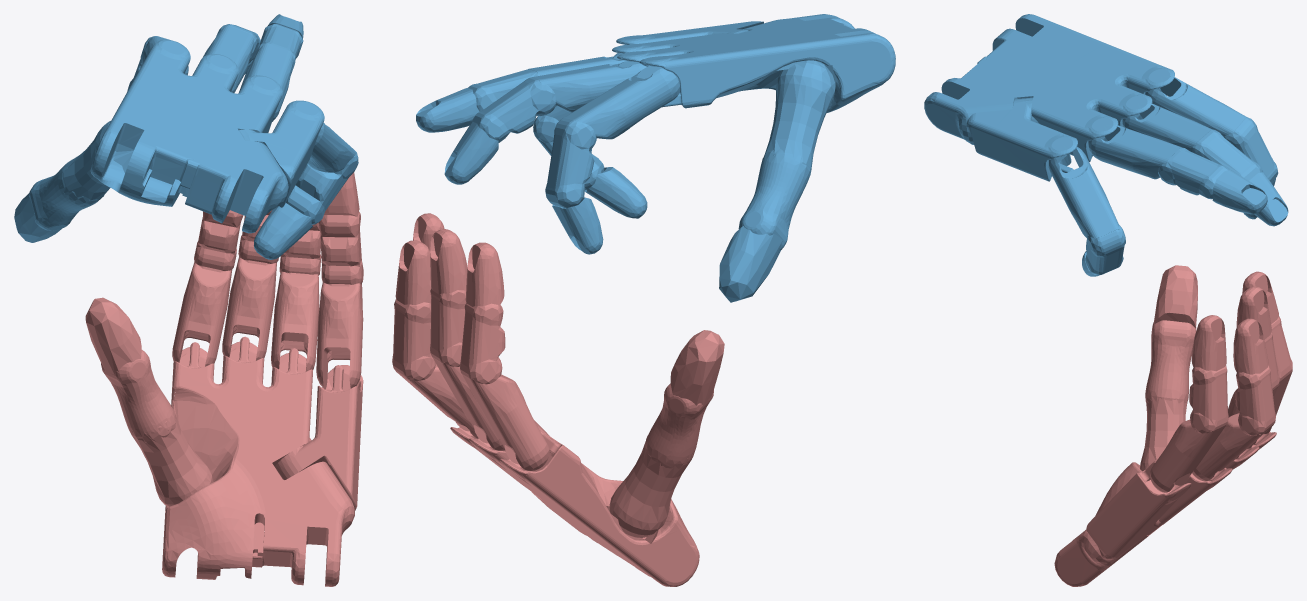
File: FoodItem_pc.glb
3 renders of one model, left to right at view 1: azimuth 30°, elevation 25°; view 2: azimuth 150°, elevation 25°; view 3: azimuth 270°, elevation 25°, orthographic. The views are drawn at different scales.
Visible parts, largest first — view 1: geom_2, geom_1; view 2: geom_1, geom_2; view 3: geom_1, geom_2.
Part boxes in pixels (x1,y1,x2,y2): geom_2: (85,172,363,586); geom_1: (14,14,358,259); geom_1: (416,14,895,302); geom_2: (392,213,724,586); geom_1: (924,14,1288,276); geom_2: (1054,265,1292,586).
Bounding box in the file's own units: 0.1919 × 0.2608 × 0.187.
